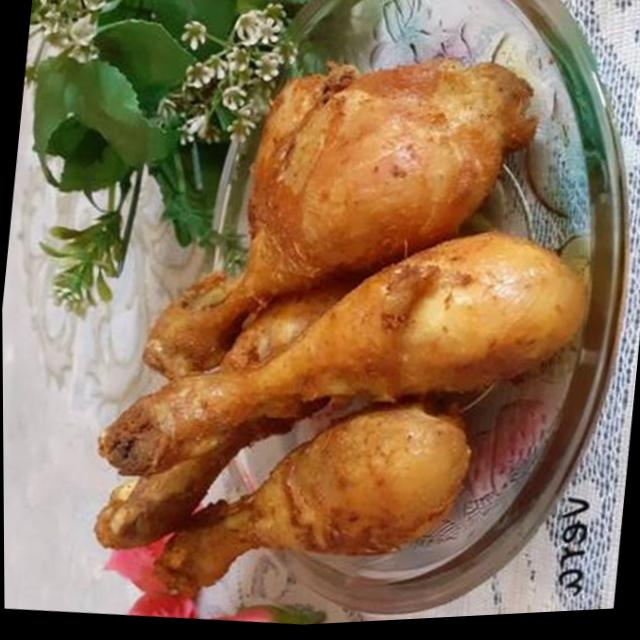CHICKEN FRY: (87, 58, 584, 597)
